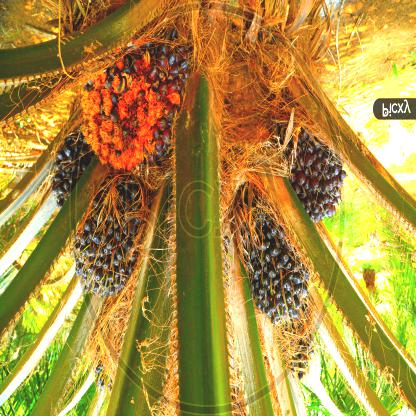1: (80, 52, 187, 164)
palm-oil: (246, 200, 308, 332), (81, 187, 151, 302), (292, 115, 344, 223), (46, 130, 89, 214)
